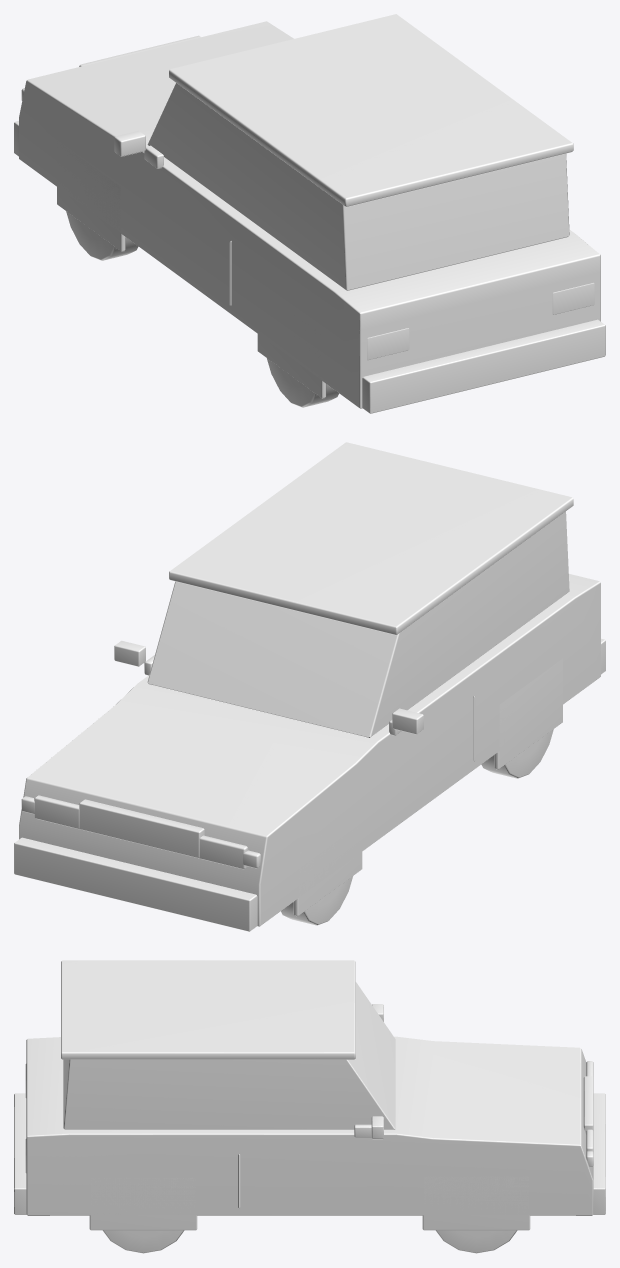
The model's file is suv.glb.
3 views of the same model, one above another, from view 1: azimuth 30°, elevation 25°; view 2: azimuth 150°, elevation 25°; view 3: azimuth 270°, elevation 25° (orthographic). The views are drawn at different scales.
Visible parts, largest first — view 1: Body.002, Glass.002, Trim.002, Lamps.002, Wheel_FL.002, Wheel_RL.002; view 2: Body.002, Glass.002, Trim.002, Lamps.002, Wheel_RL.002, Wheel_FL.002; view 3: Body.002, Glass.002, Trim.002, Wheel_FR.002, Wheel_RR.002, Lamps.002.
Part boxes in pixels (<box>): Body.002: <box>19,14,600,408</box>; Glass.002: <box>147,83,569,290</box>; Trim.002: <box>14,35,605,413</box>; Lamps.002: <box>21,88,594,359</box>; Wheel_FL.002: <box>66,211,138,260</box>; Wheel_RL.002: <box>267,358,338,407</box>; Body.002: <box>19,442,600,926</box>; Glass.002: <box>147,511,569,737</box>; Trim.002: <box>14,638,605,931</box>; Lamps.002: <box>21,795,260,869</box>; Wheel_RL.002: <box>481,729,553,778</box>; Wheel_FL.002: <box>281,876,352,925</box>; Body.002: <box>26,960,593,1215</box>; Glass.002: <box>63,982,395,1129</box>; Trim.002: <box>14,1004,605,1230</box>; Wheel_FR.002: <box>435,1230,517,1253</box>; Wheel_RR.002: <box>102,1230,184,1253</box>; Lamps.002: <box>25,1061,593,1172</box>.
Bounding box in the file's own units: 2.36 × 1.78 × 4.8.
1 material, 1 textured.
